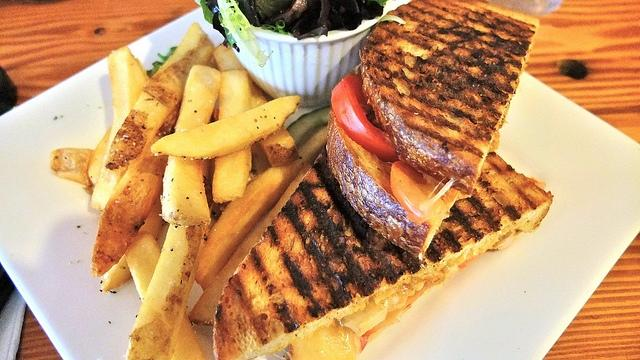tomato: (330, 75, 399, 162), (390, 160, 435, 225)
